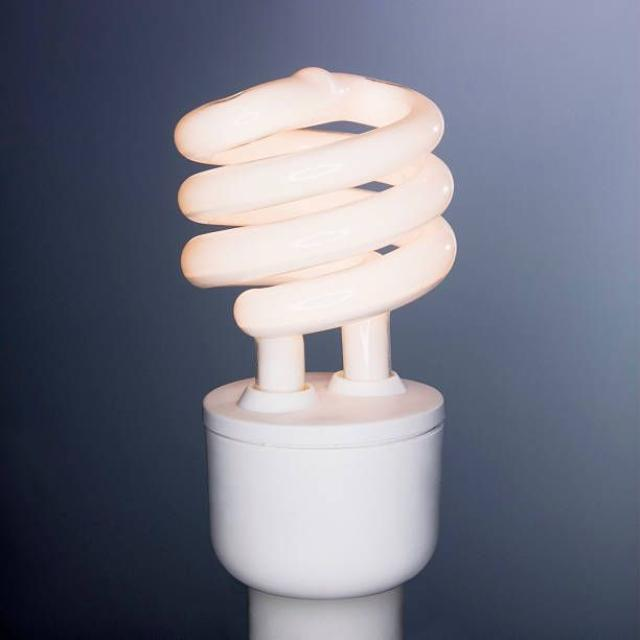electronic: (173, 65, 458, 637)
